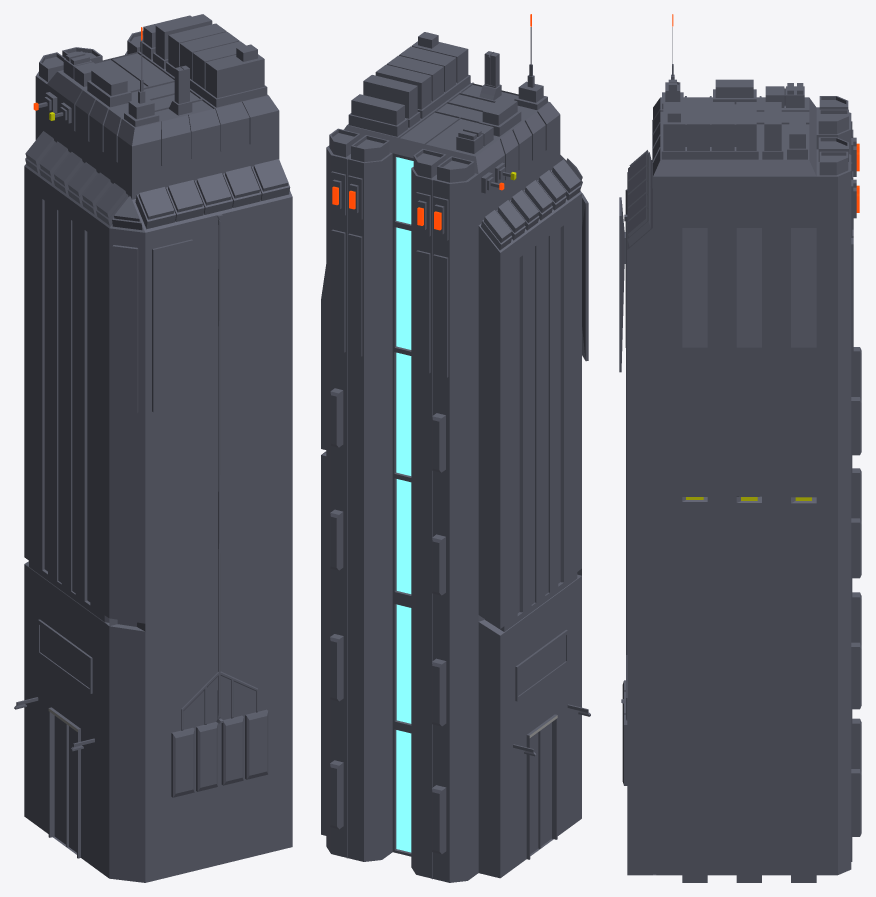
File: building.fbx
The picture shows the model from 3 angles, left to right: view 1: azimuth 30°, elevation 25°; view 2: azimuth 150°, elevation 25°; view 3: azimuth 270°, elevation 25°; orthographic projection. The views are drawn at different scales.
Visible parts, largest first — view 1: Cube; view 2: Cube; view 3: Cube.
Boxes of the visible parts, x1,y1,x2,y2 form: Cube: [14, 14, 292, 882]; Cube: [321, 14, 590, 882]; Cube: [619, 14, 861, 882].
Size of the model in its own units: 1691 by 6427 by 1762.
